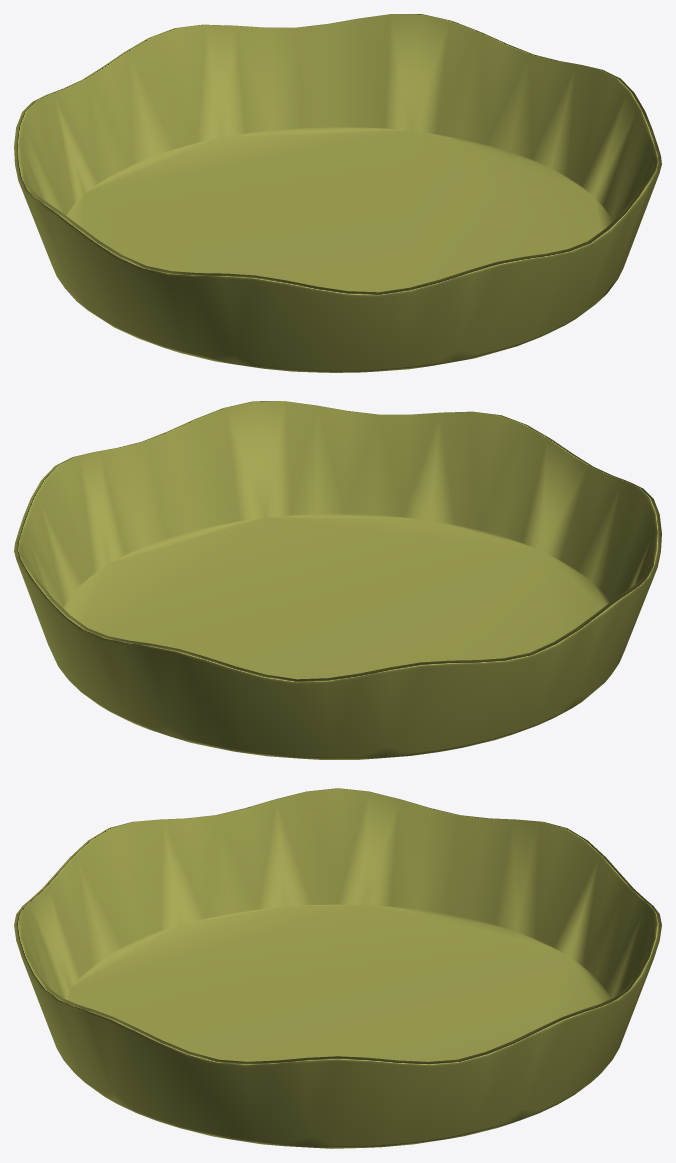
The model's file is crostata_piatto_LOD1.fbx.
3 renders of one model, top to bottom at view 1: azimuth 30°, elevation 25°; view 2: azimuth 150°, elevation 25°; view 3: azimuth 270°, elevation 25°, orthographic.
Parts seen in each view (by area): view 1: Cube_008; view 2: Cube_008; view 3: Cube_008.
Boxes of the visible parts, left/top/right/bottom form: Cube_008: left=14, top=14, right=661, bottom=372; Cube_008: left=14, top=401, right=661, bottom=759; Cube_008: left=14, top=788, right=661, bottom=1148.
Bounding box in the file's own units: 84.28 × 15.46 × 84.28.
